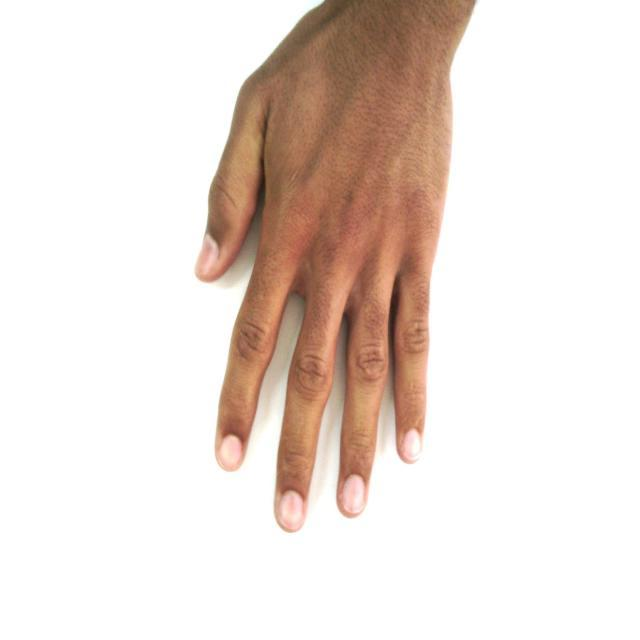Fingernail: (280, 492, 304, 529), (195, 236, 218, 274), (342, 476, 364, 512), (220, 436, 241, 469), (402, 430, 420, 459)
